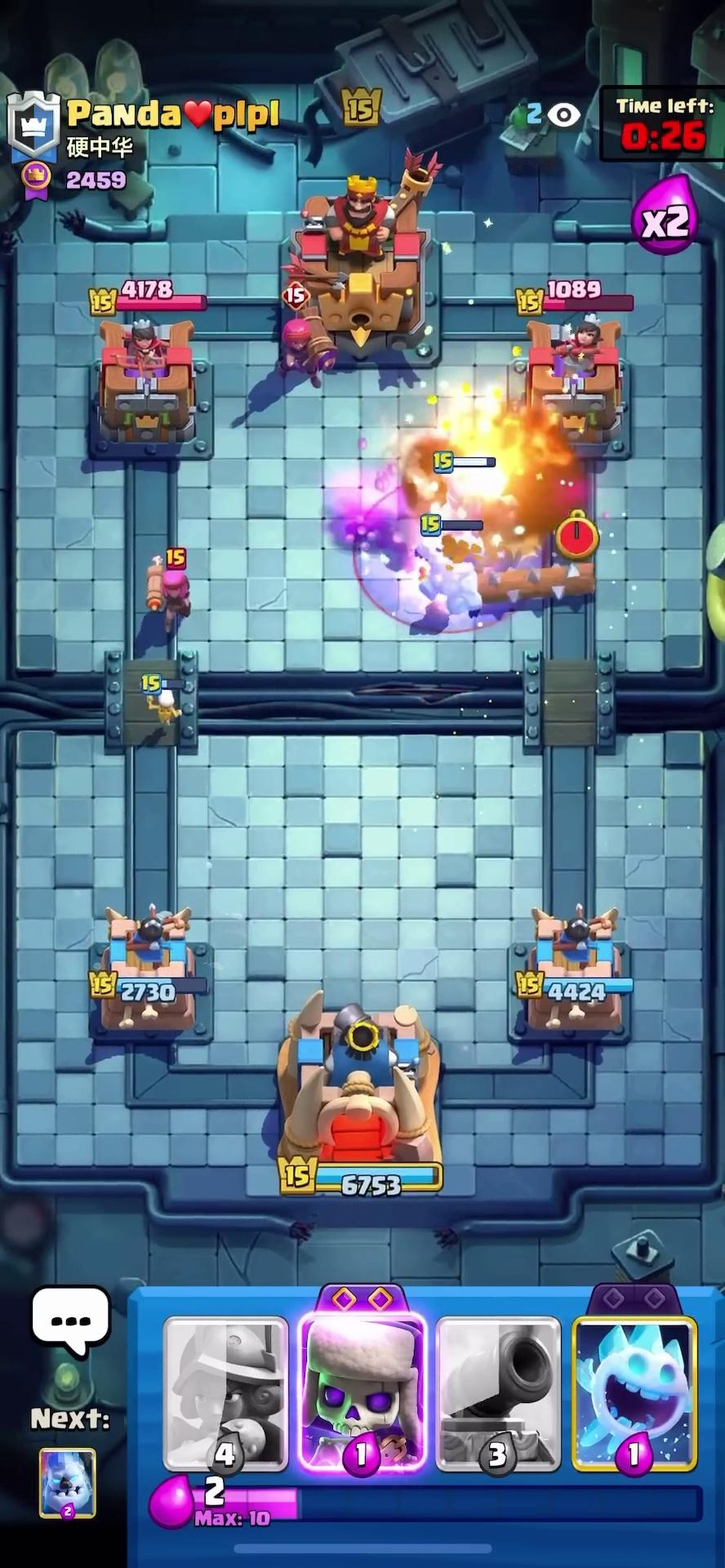ice_golem: (412, 527, 490, 604)
log: (451, 568, 614, 600)
skeletons: (143, 662, 194, 727)
